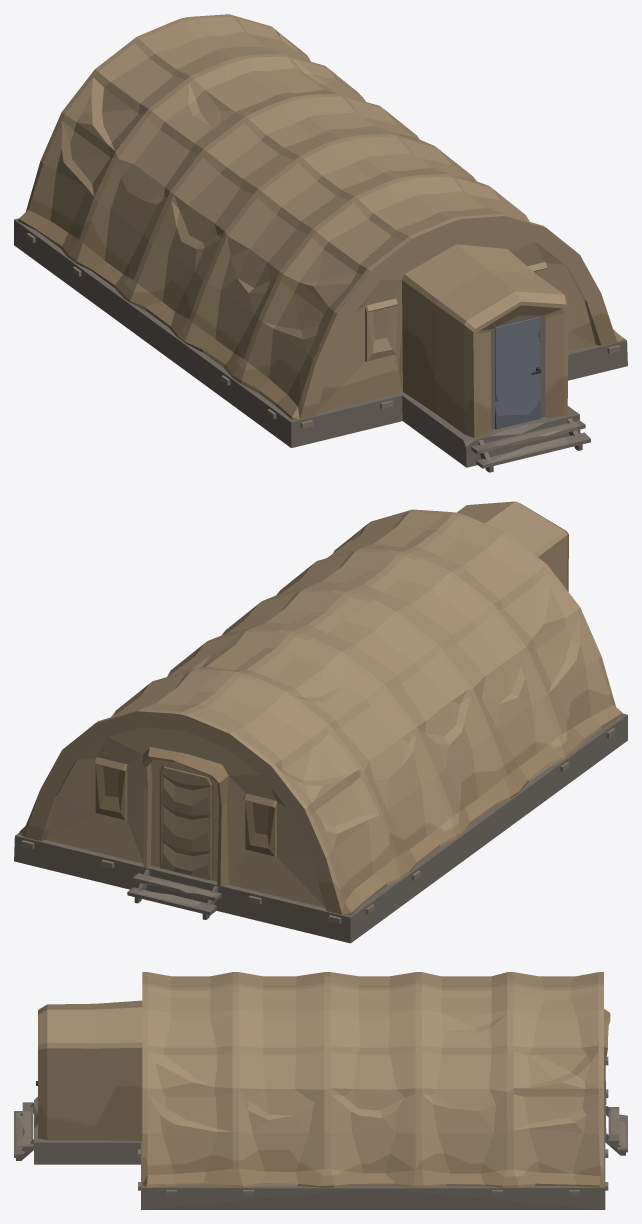
The model's file is SM_Bld_Tent_Entrance_01.fbx.
The picture shows the model from 3 angles, top to bottom: view 1: azimuth 30°, elevation 25°; view 2: azimuth 150°, elevation 25°; view 3: azimuth 270°, elevation 25°; orthographic projection. The views are drawn at different scales.
Visible parts, largest first — view 1: SM_Bld_Tent_Entrance_01, SM_Bld_Tent_Entrance_Door_01; view 2: SM_Bld_Tent_Entrance_01, SM_Bld_Tent_Entrance_Door_02; view 3: SM_Bld_Tent_Entrance_01.
Boxes of the visible parts, x1,y1,x2,y2 form: SM_Bld_Tent_Entrance_01: [14, 14, 627, 472]; SM_Bld_Tent_Entrance_Door_01: [495, 317, 541, 429]; SM_Bld_Tent_Entrance_01: [14, 501, 627, 943]; SM_Bld_Tent_Entrance_Door_02: [159, 766, 212, 880]; SM_Bld_Tent_Entrance_01: [14, 972, 627, 1209].
Bounding box in the file's own units: 780 × 407 × 1449.
